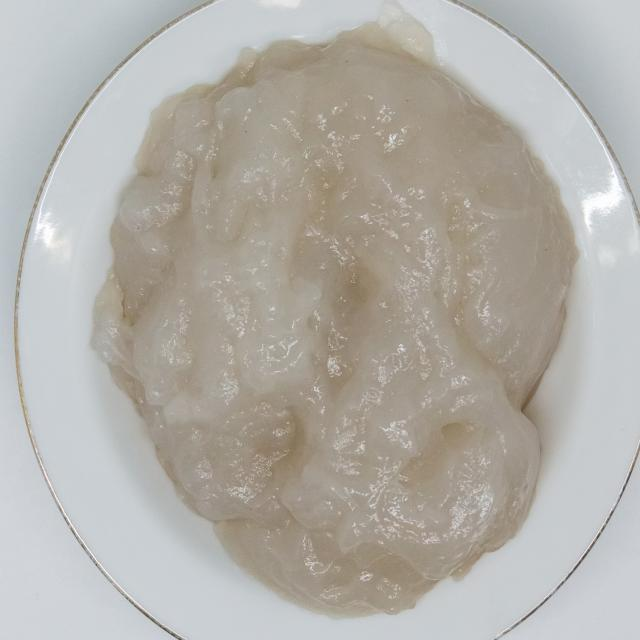Papeda: (92, 14, 588, 621)
